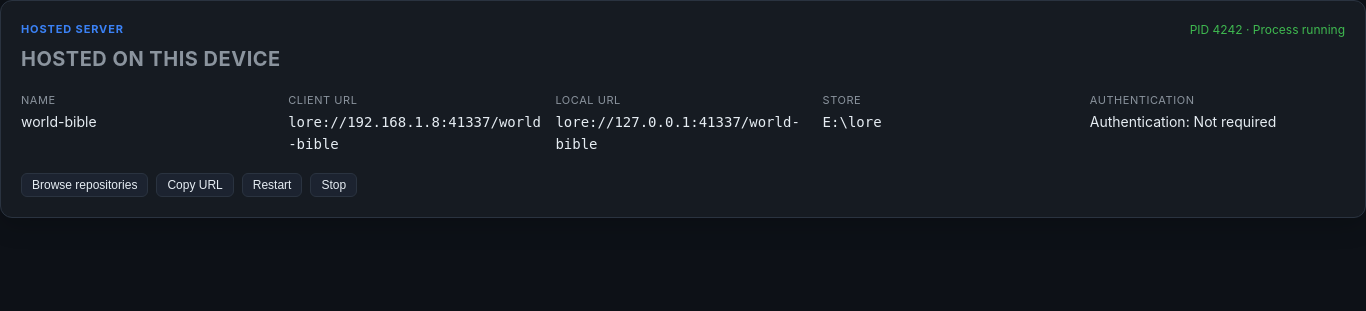
Test case: HostedServerCard › suppresses a pending copy resolve after a newer status error
The width and height of the screenshot is (1366, 311).
Click the button "Copy URL". click: (195, 185)
box: [156,173,234,197]
Wait 25 ms
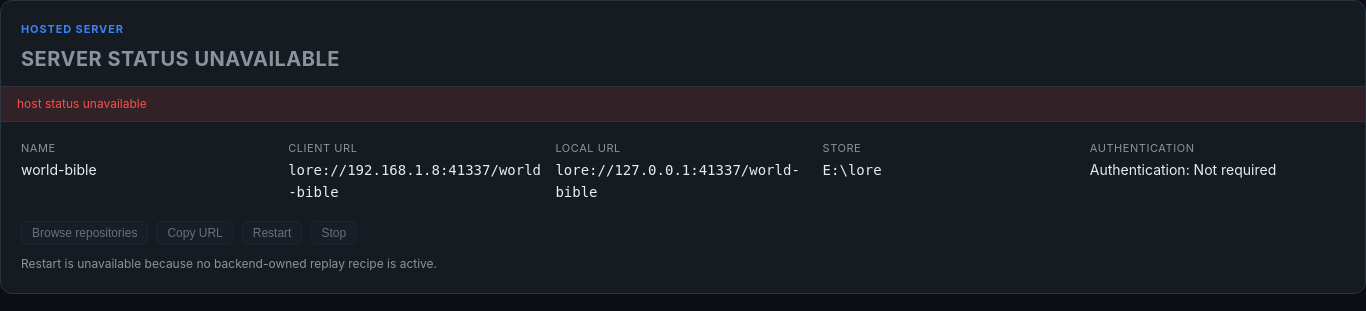
Expected: the message reads "host status unavailable", [17,96,147,110]
